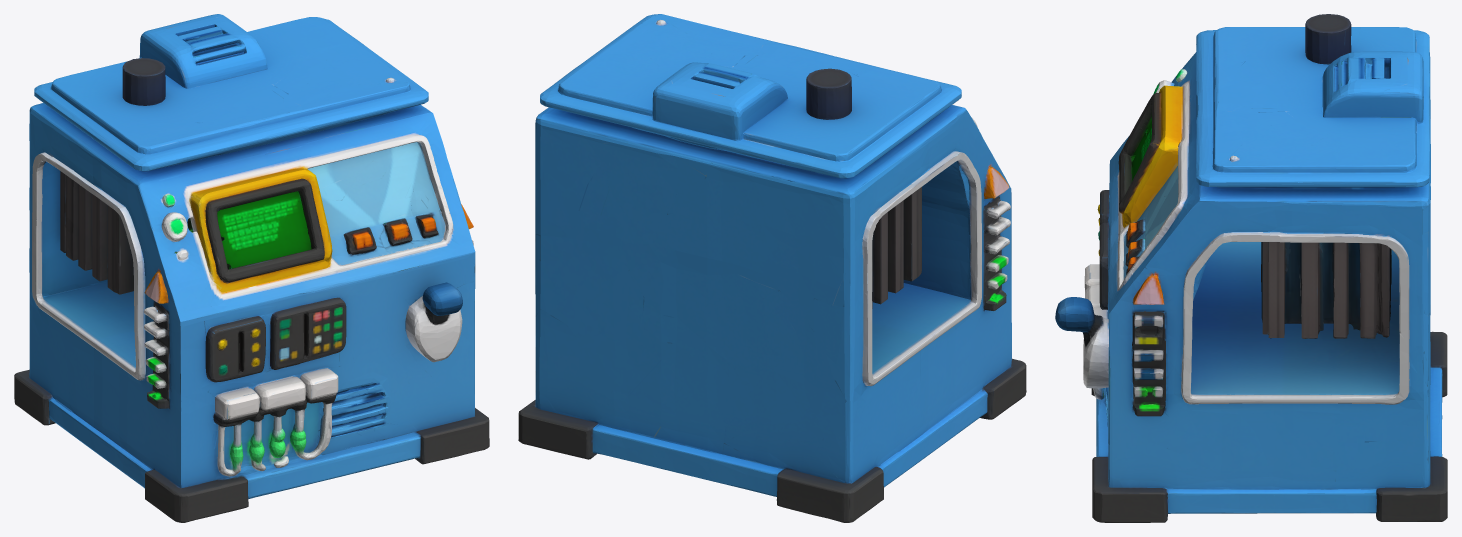
3 renders of one model, left to right at view 1: azimuth 30°, elevation 25°; view 2: azimuth 150°, elevation 25°; view 3: azimuth 270°, elevation 25°, orthographic. The views are drawn at different scales.
Parts seen in each view (by area): view 1: world; view 2: world; view 3: world.
Part boxes in pixels (x1,y1,x2,y2): world: (14, 14, 489, 522); world: (518, 14, 1026, 522); world: (1055, 14, 1447, 522).
Size of the model in its own units: 0.9291 by 1 by 0.9404.
1 material, 1 textured.
